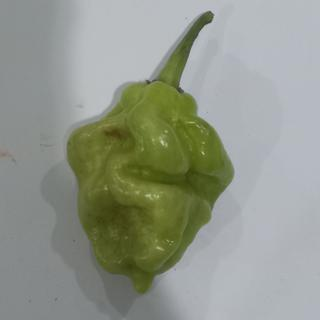Grade-A: (63, 77, 241, 298)
